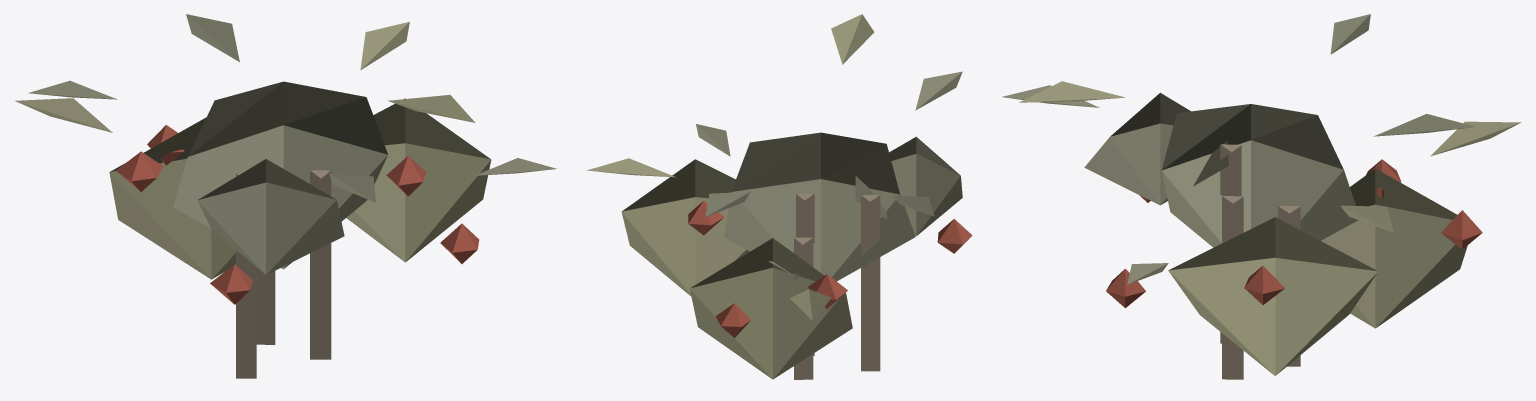
The model's file is guan.zhen@fruiting__winter.glb.
3 views of the same model, side by side, from view 1: azimuth 30°, elevation 25°; view 2: azimuth 150°, elevation 25°; view 3: azimuth 270°, elevation 25° (orthographic). The views are drawn at different scales.
Visible parts, largest first — view 1: guan.zhen@fruiting__winter; view 2: guan.zhen@fruiting__winter; view 3: guan.zhen@fruiting__winter.
Part boxes in pixels (<box>): guan.zhen@fruiting__winter: <box>15,14,556,378</box>; guan.zhen@fruiting__winter: <box>586,14,972,379</box>; guan.zhen@fruiting__winter: <box>1002,14,1521,379</box>.
Size of the model in its own units: 2.66 by 1.93 by 2.98.
